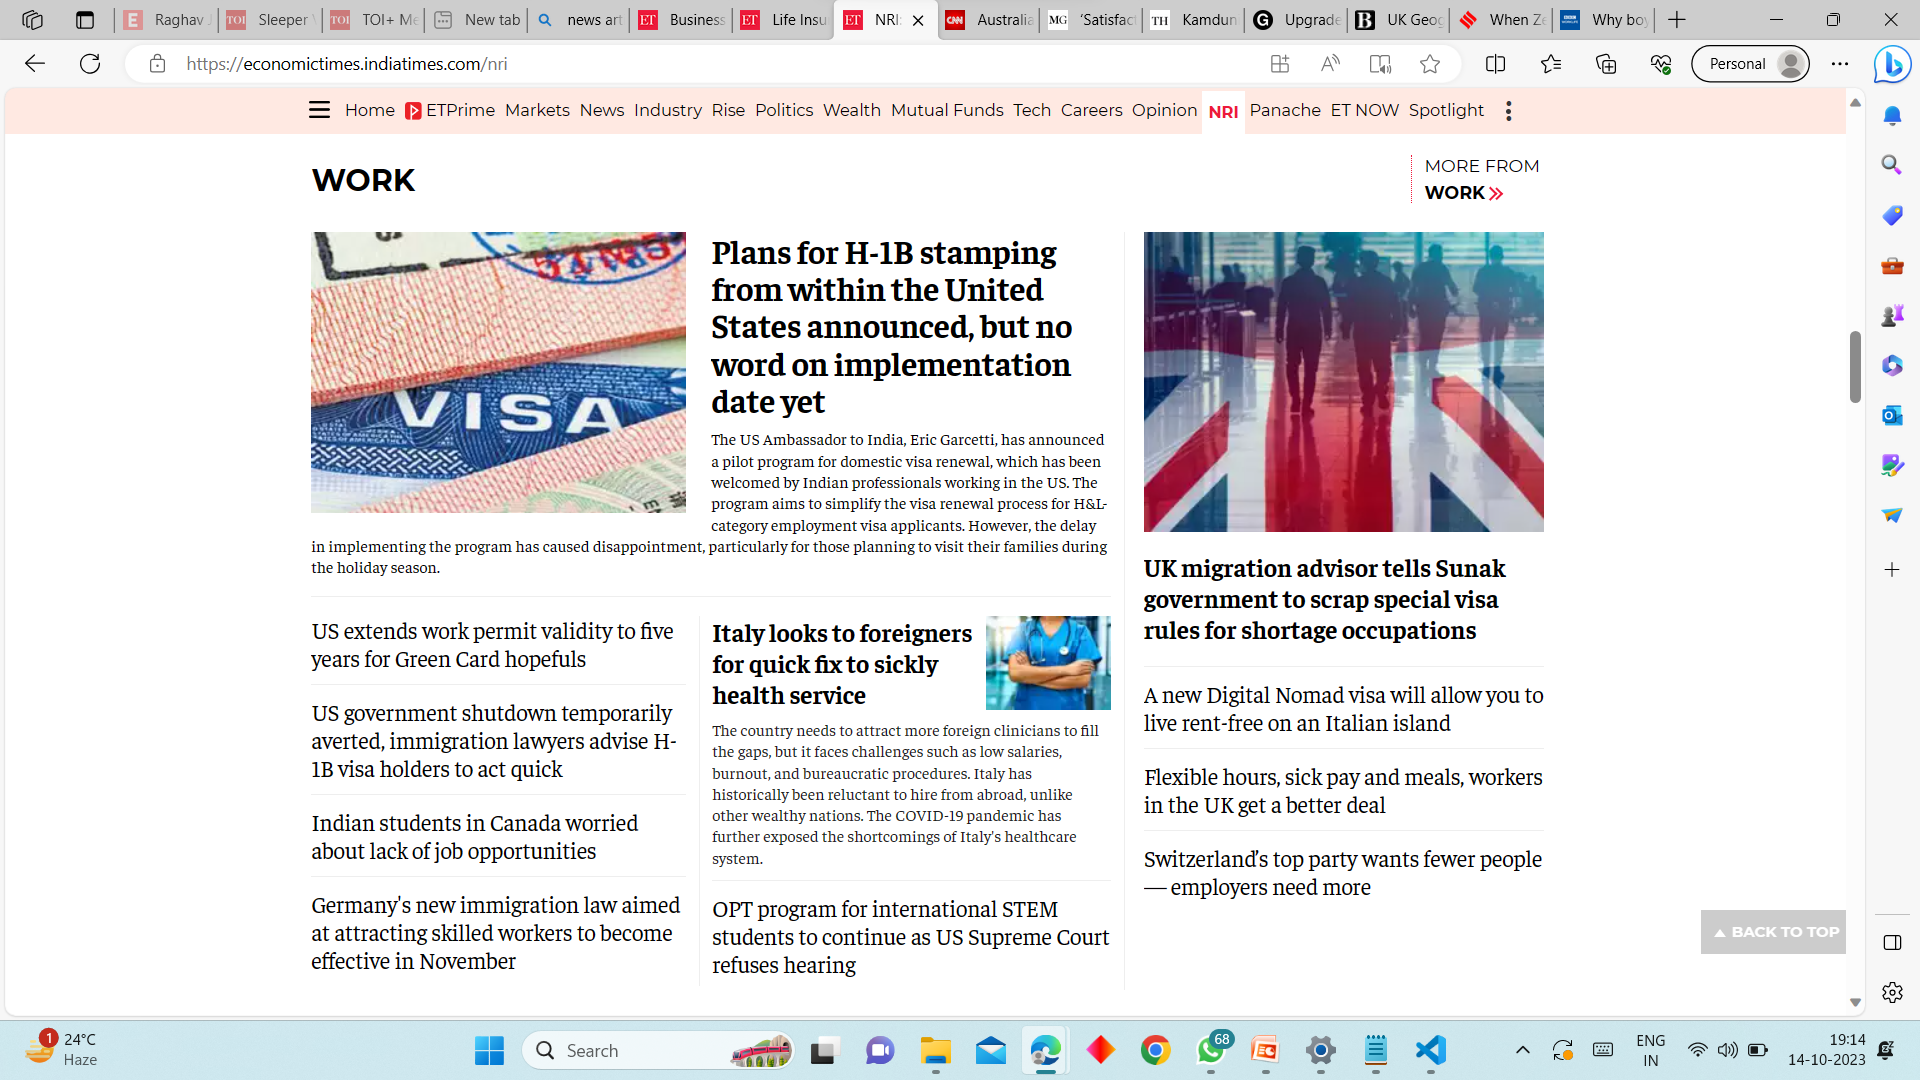Image: (1150, 239, 1536, 530), (315, 232, 687, 510), (986, 611, 1106, 713)
Paragraph: (694, 224, 1106, 418), (702, 723, 1125, 877), (687, 431, 1118, 570), (1129, 547, 1545, 655), (700, 893, 1129, 984), (311, 688, 675, 794), (298, 881, 687, 977), (1134, 756, 1553, 833), (1134, 841, 1563, 915), (700, 608, 981, 716), (1127, 671, 1556, 738), (305, 604, 673, 673), (306, 527, 702, 576), (302, 803, 646, 858), (1411, 132, 1553, 210), (305, 145, 430, 202)
